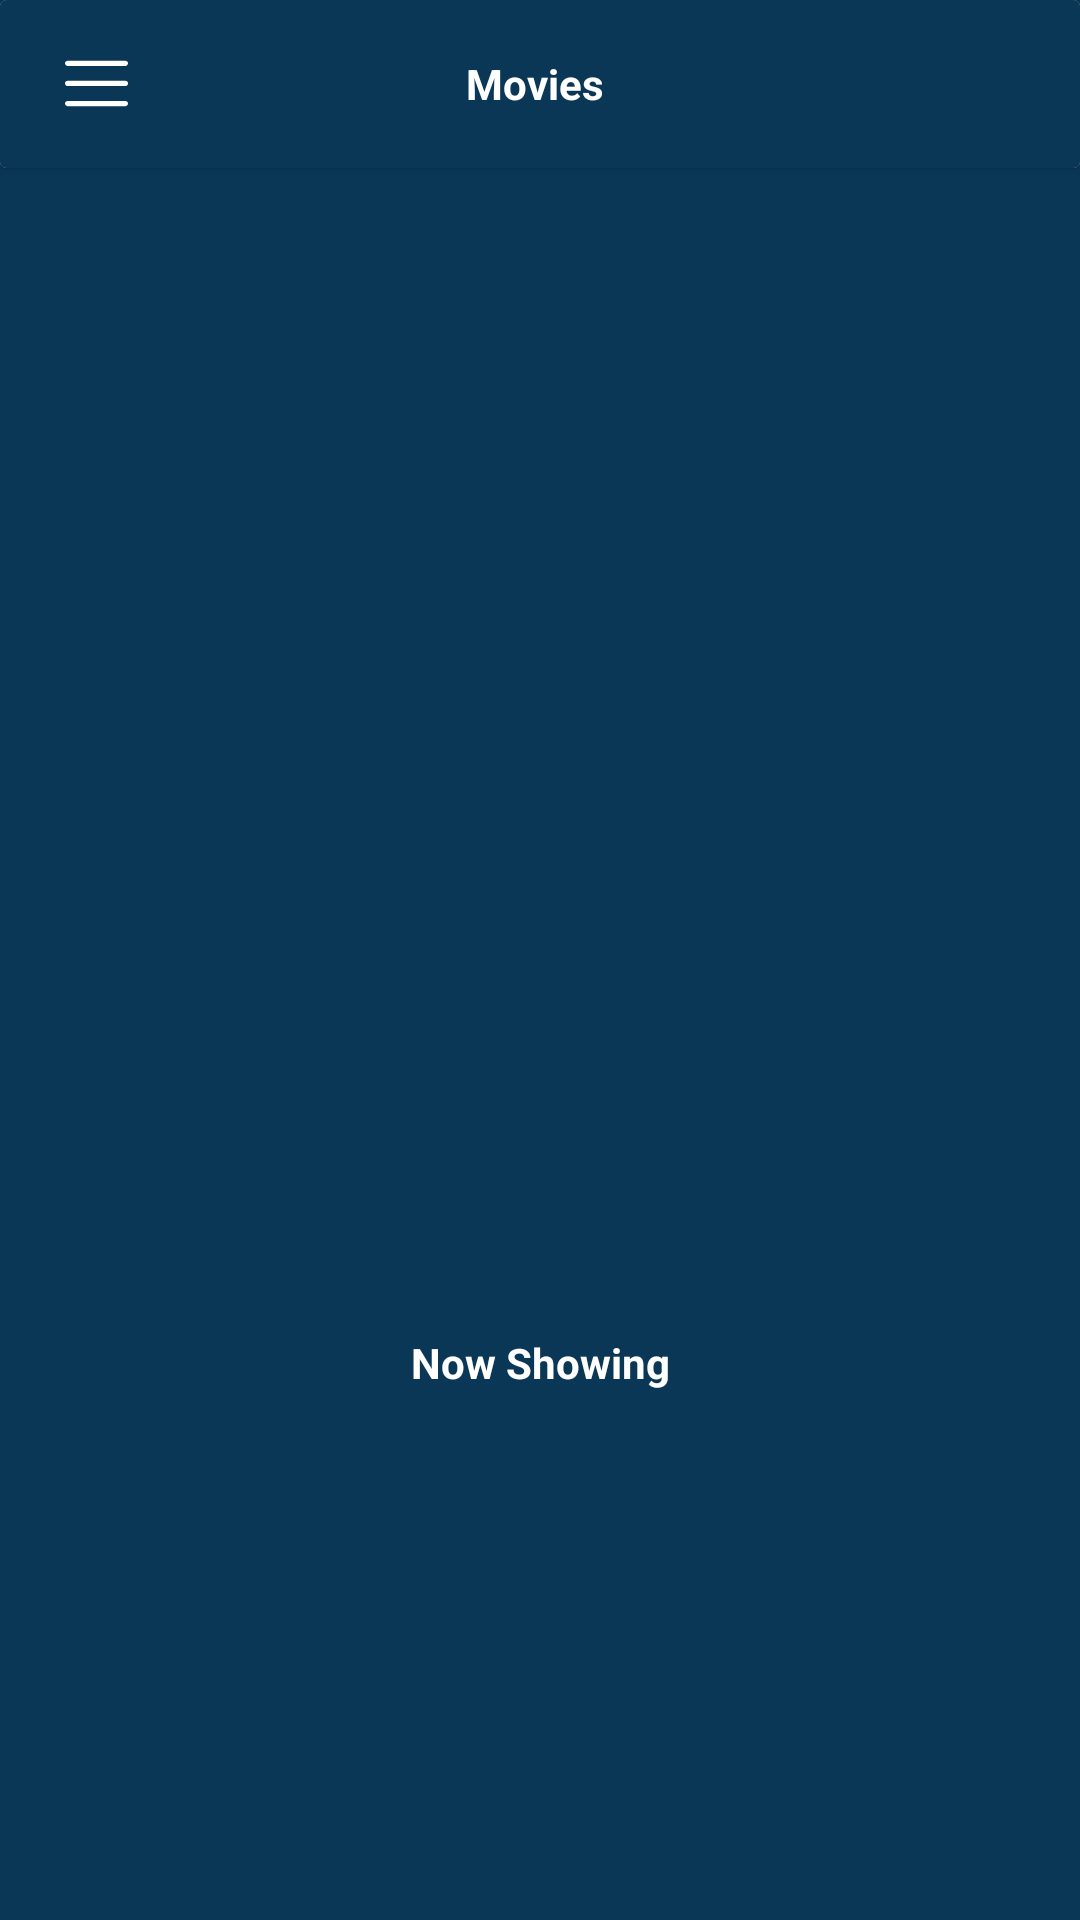

Icon bounding boxes for this 1080*1920 phone screenshot, format (x1, y1, x2, y2):
menu: (65, 60, 128, 107)
